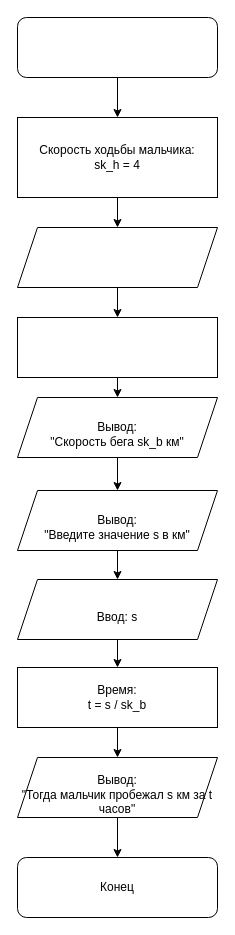
This 235x935 diagram has some shape labels left out. The centre of each missing label's shape, as x and y in pixels:
Cкорость бега мальчика: sk_b = sk_h * 3: (x=117, y=347)
Вывод: "Скорость ходьбы sk_h км": (x=117, y=257)
Начало: (x=117, y=47)
